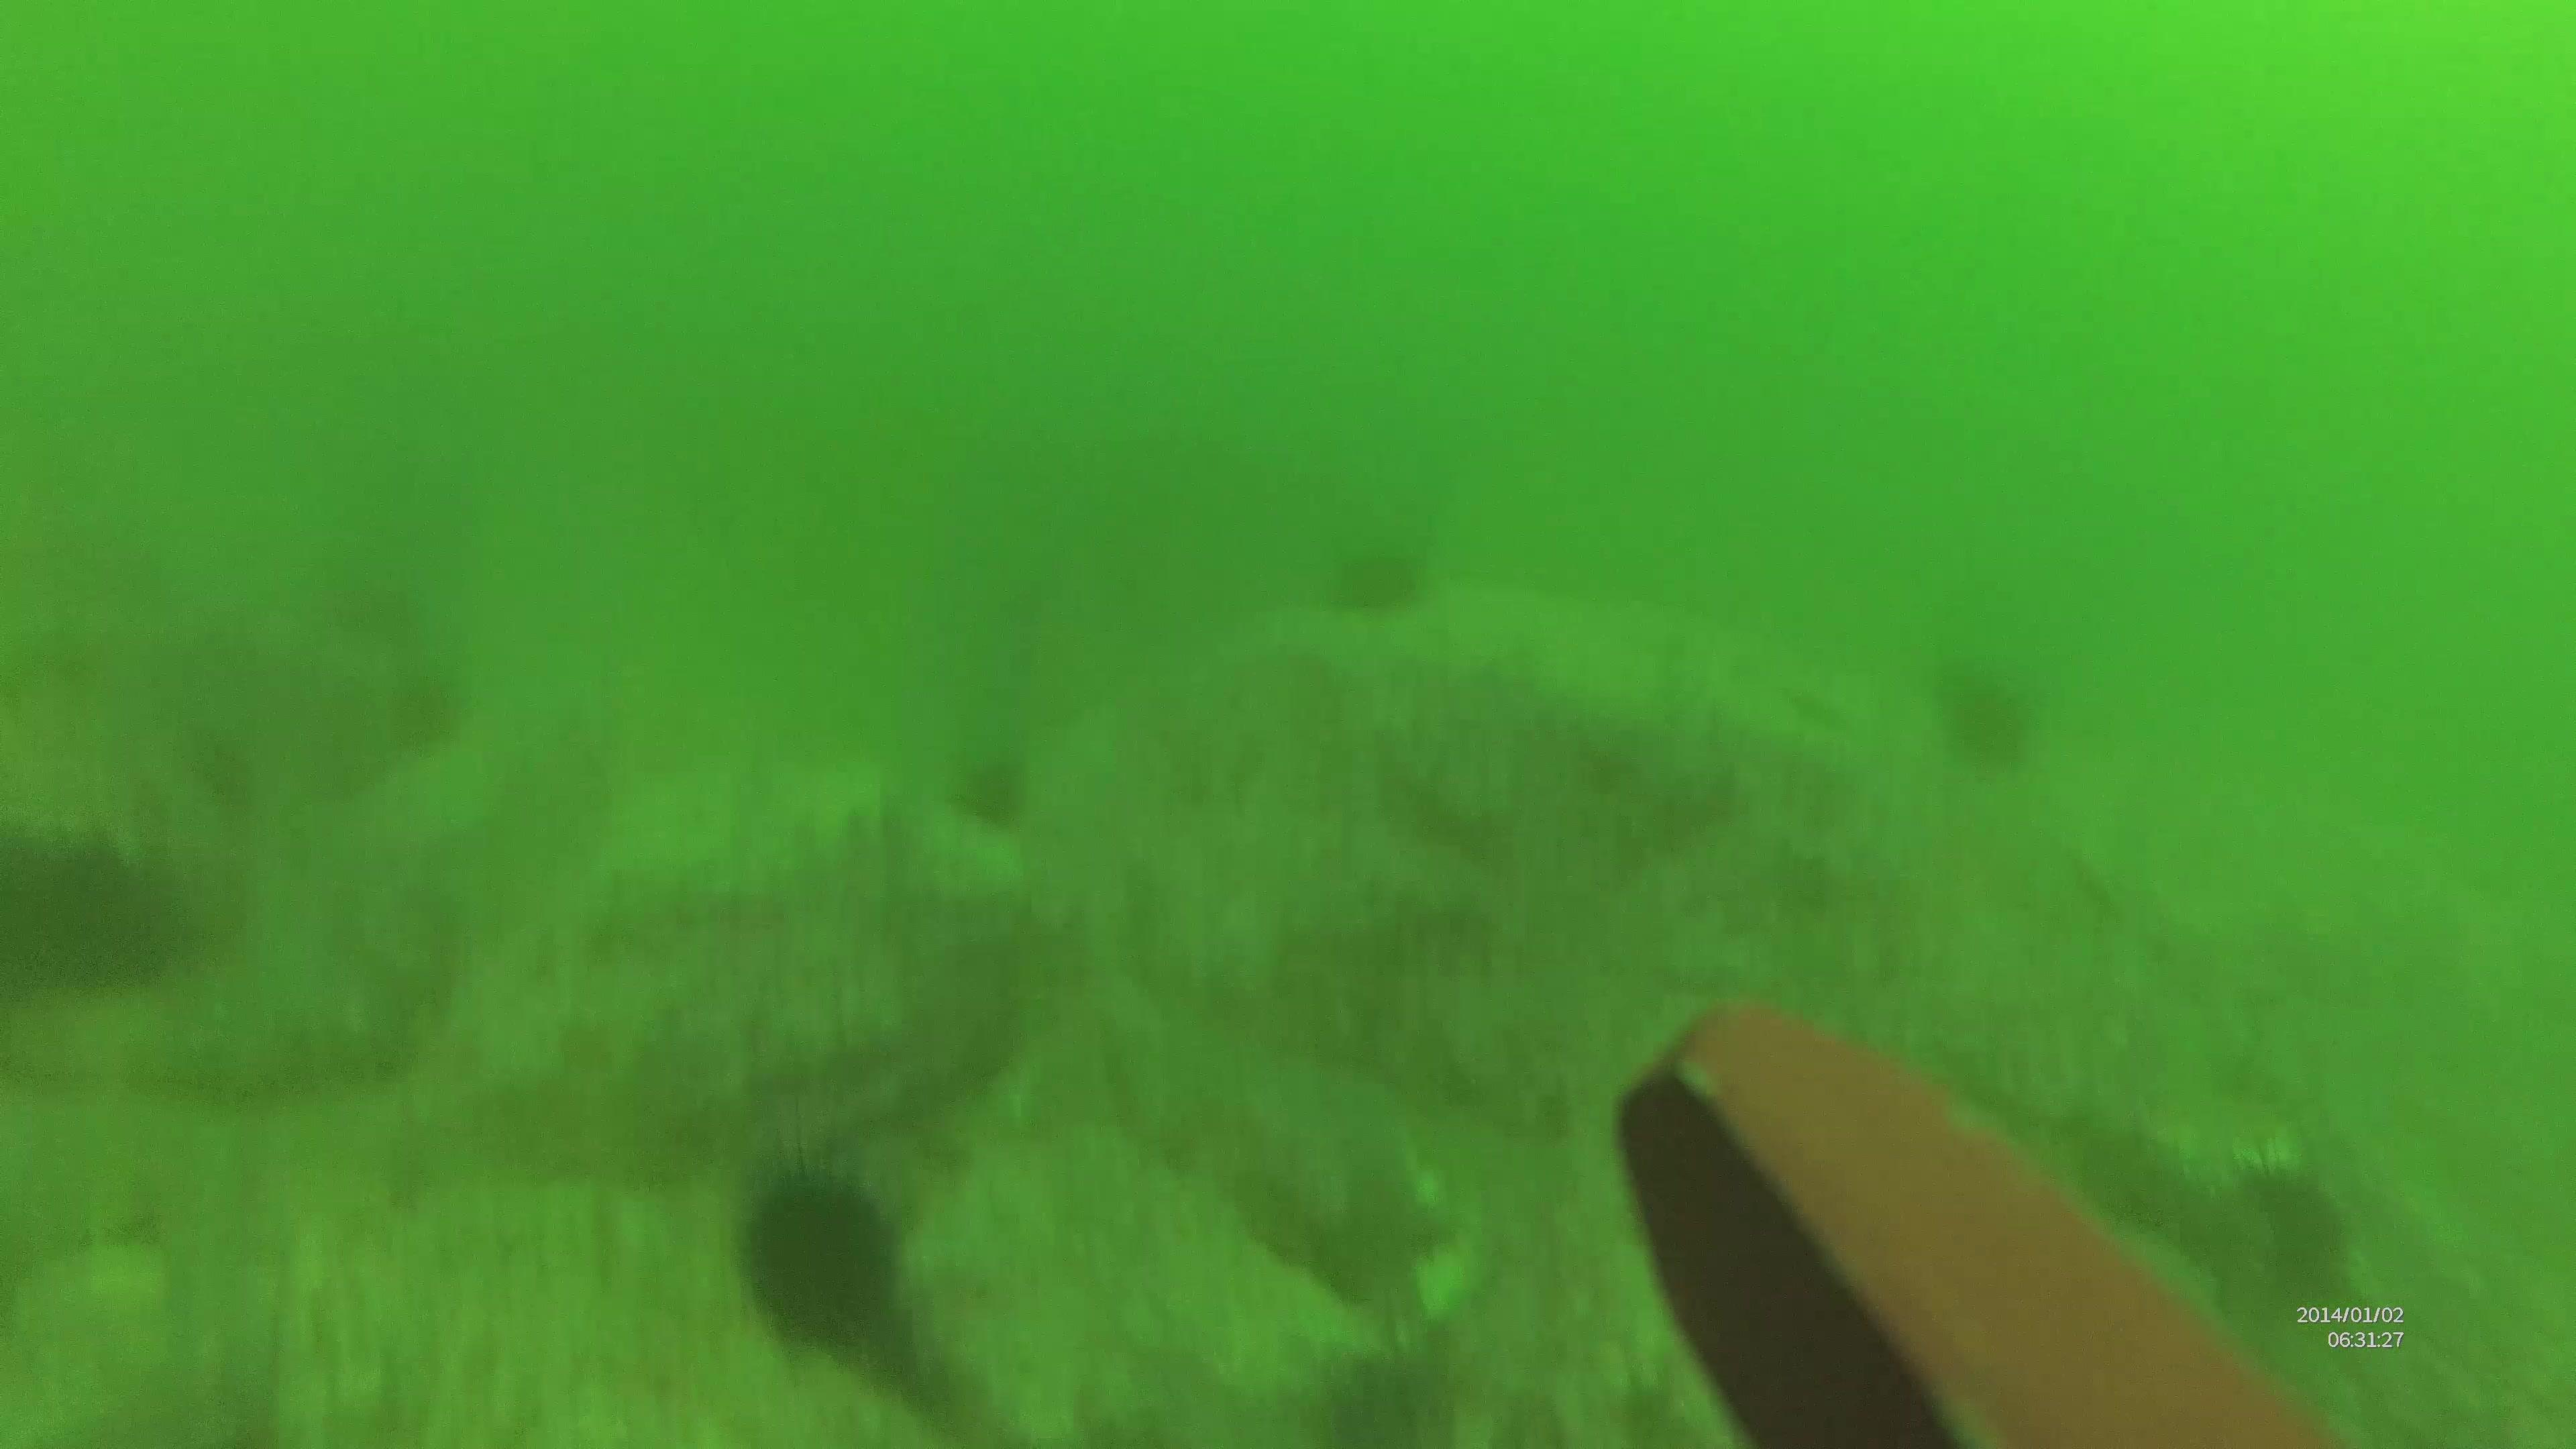echinus: (4, 798, 170, 1003), (743, 1141, 902, 1352), (2235, 1141, 2355, 1284), (1930, 653, 2035, 771), (1327, 541, 1435, 623), (955, 759, 1028, 826)
